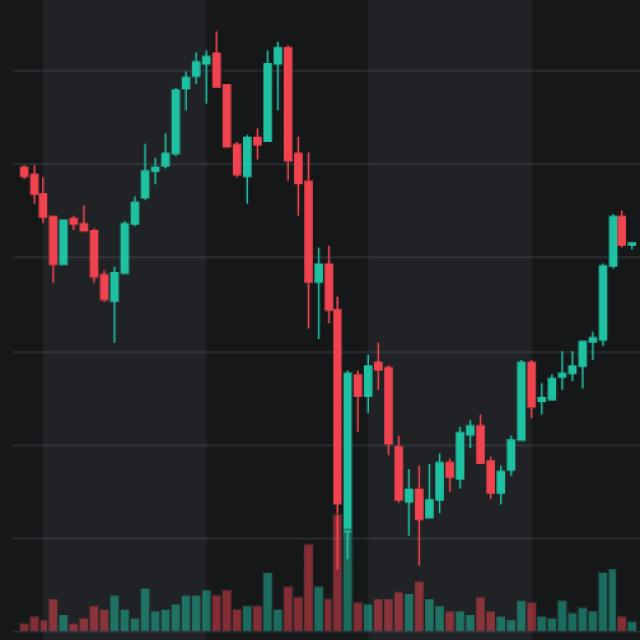Inverse-Head-Shoulders: (347, 323, 531, 531)
